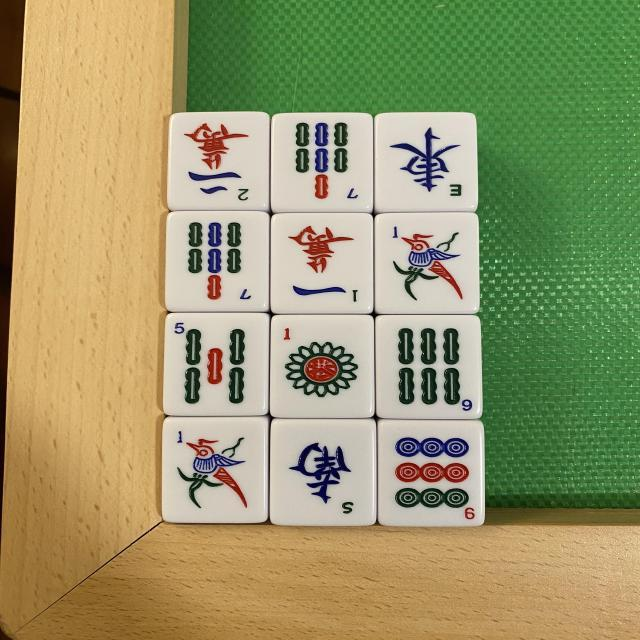hwe: (378, 118, 477, 214)
hws: (268, 419, 374, 528)
sb1: (157, 414, 266, 524), (377, 216, 477, 316)
sb5: (162, 313, 270, 417)
sb6: (377, 320, 478, 425)
sb7: (163, 213, 264, 314), (270, 114, 366, 211)
sc1: (274, 213, 375, 314)
sc2: (168, 115, 267, 214)
sd1: (274, 318, 373, 416)
sd9: (380, 422, 484, 530)
